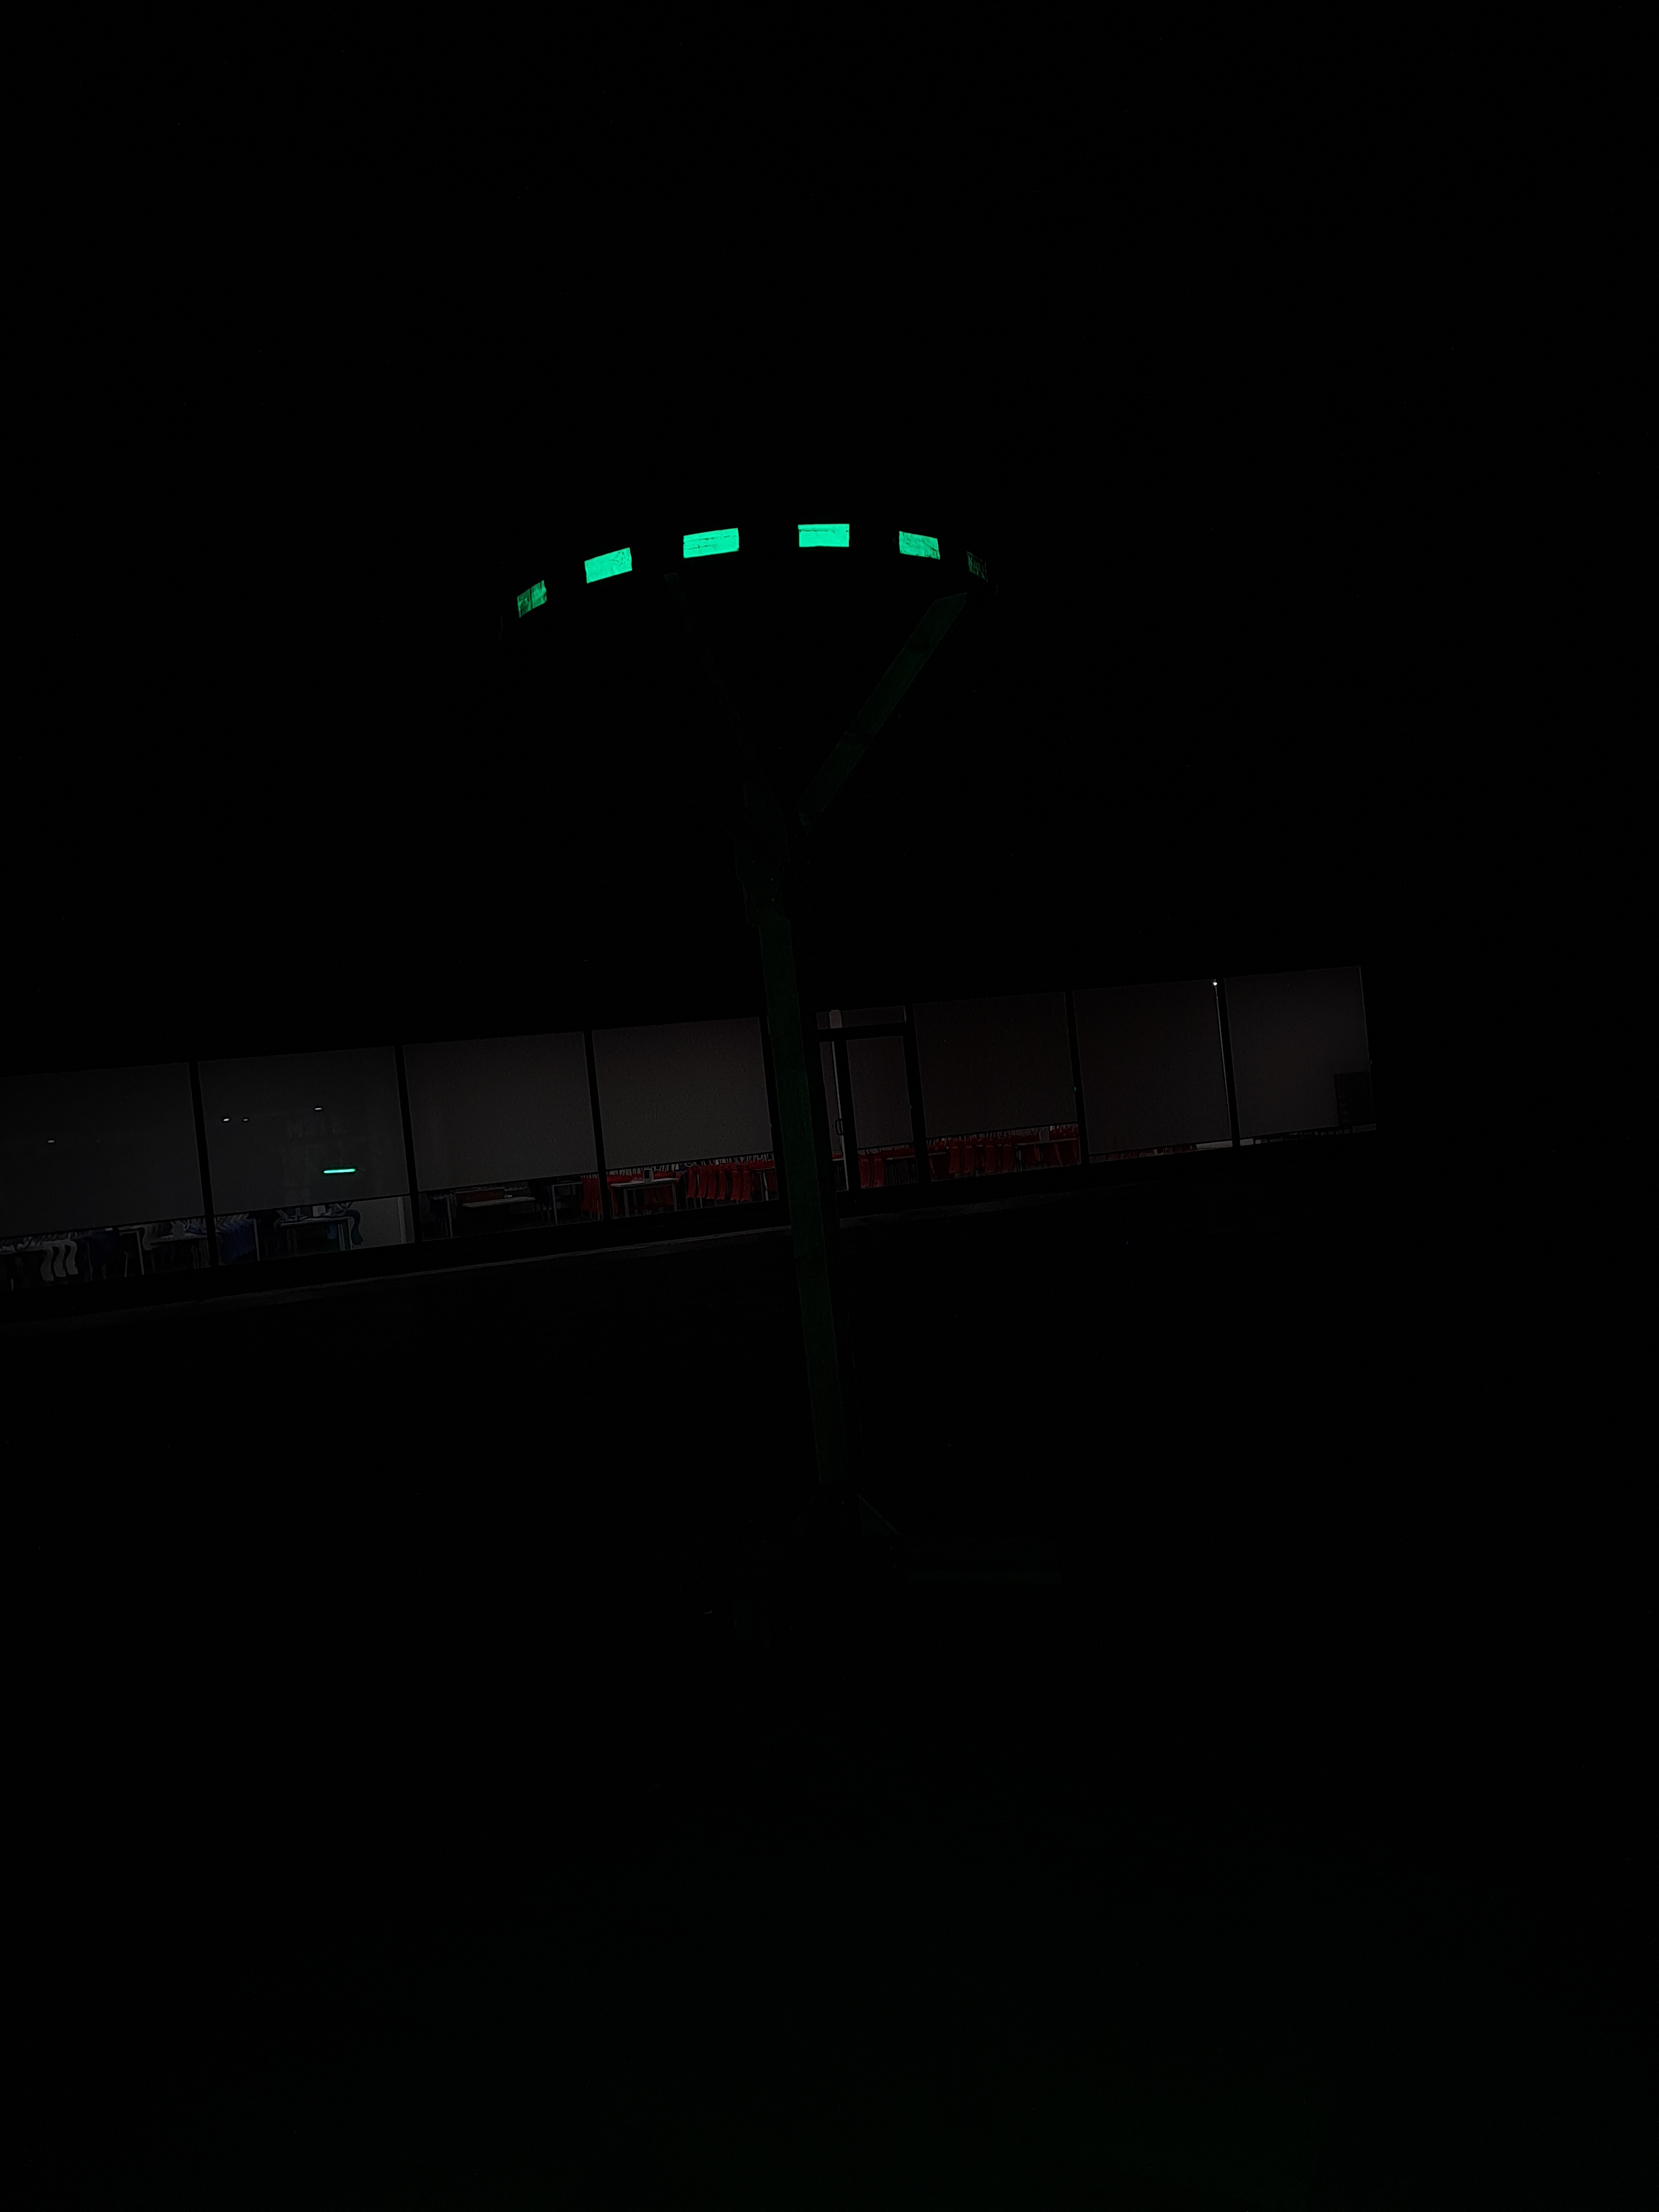hoop: (507, 519, 950, 631)
